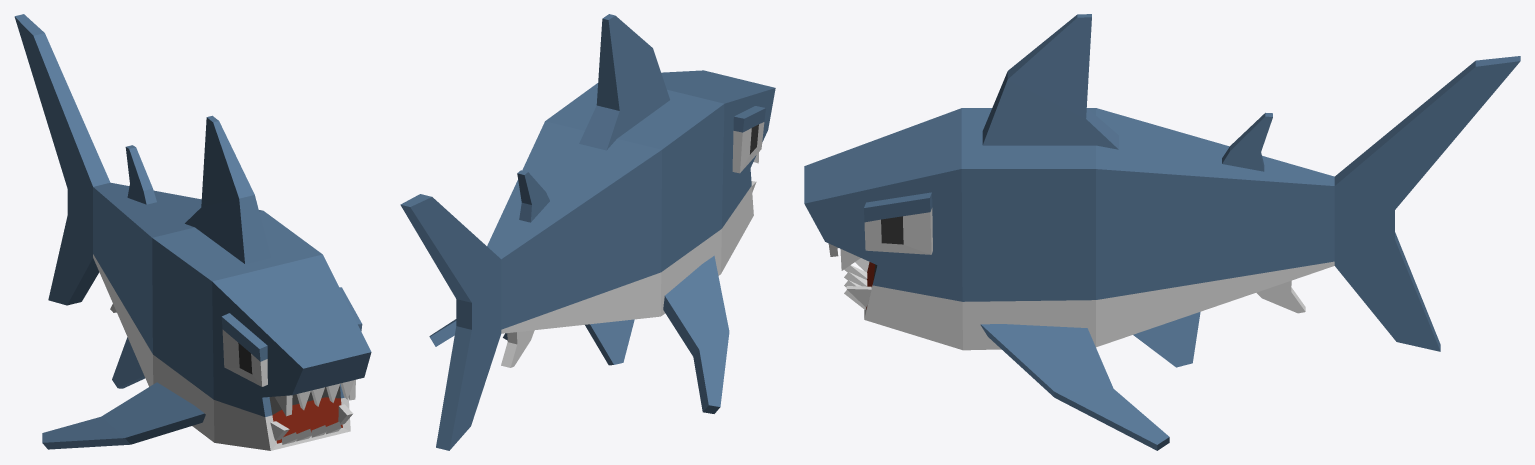
Rendered from eat_frame_0.fbx.
3 views of the same model, side by side, from view 1: azimuth 30°, elevation 25°; view 2: azimuth 150°, elevation 25°; view 3: azimuth 270°, elevation 25° (orthographic). The views are drawn at different scales.
Parts seen in each view (by area): view 1: Cube.031; view 2: Cube.031; view 3: Cube.031.
Part boxes in pixels (bbox=[...]): Cube.031: bbox=[14, 14, 371, 450]; Cube.031: bbox=[400, 14, 775, 450]; Cube.031: bbox=[804, 14, 1520, 450].
Size of the model in its own units: 4.6 by 5.12 by 9.16.
